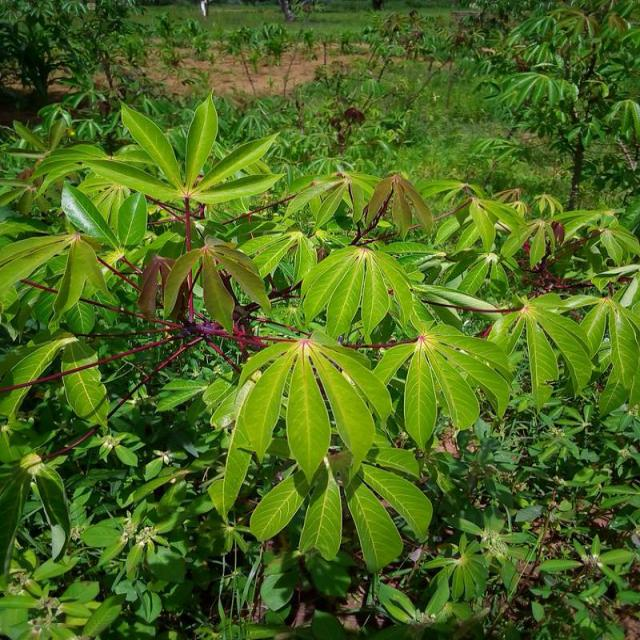cassava leaf: (300, 244, 414, 342)
